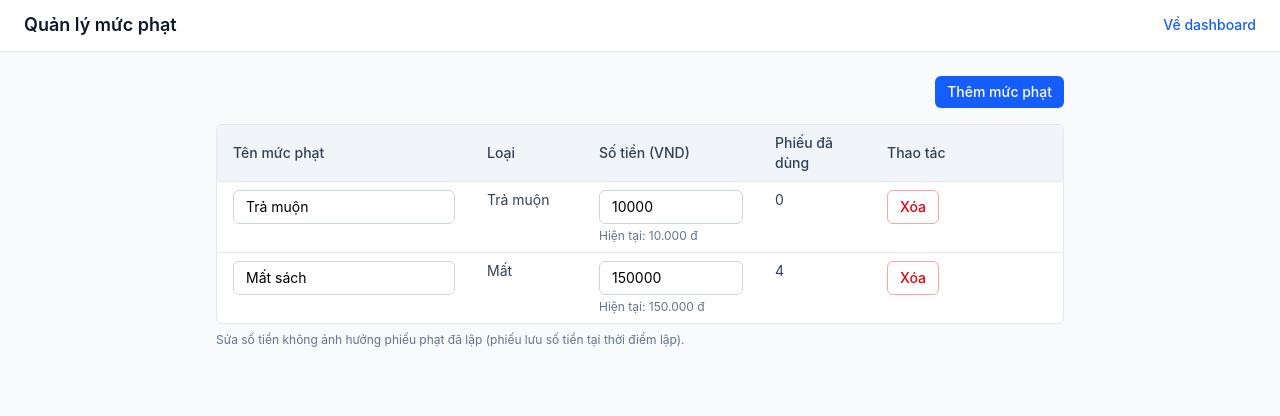
Test: FineTiersPage (2.5.1) › edge 7: Admin khác đã sửa (409 stale) → báo lỗi và tải lại bảng
Clear the field named "Tên mức phạt Trả muộn" at (344, 207), box [233, 190, 455, 224]
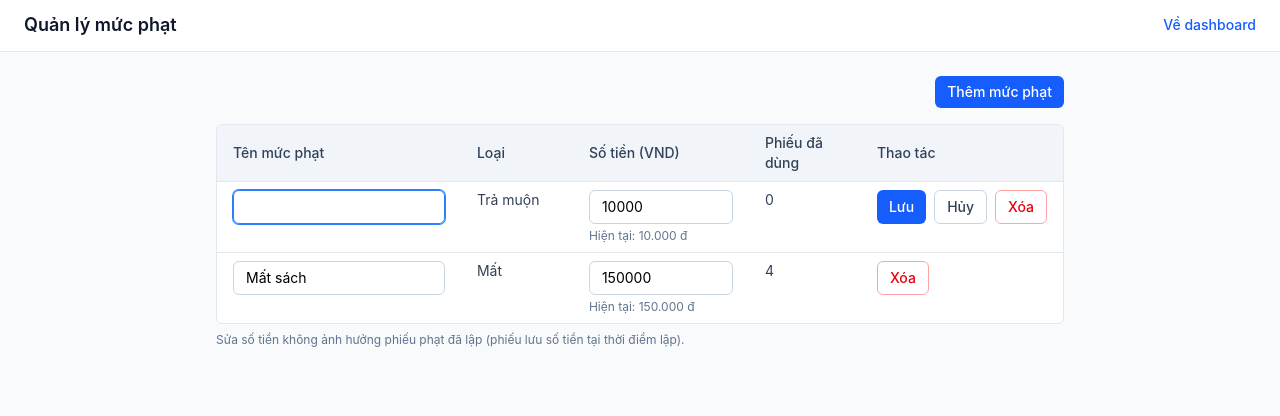
Type "Quá hạn" into the field named "Tên mức phạt Trả muộn" at (339, 207), box [233, 190, 445, 224]
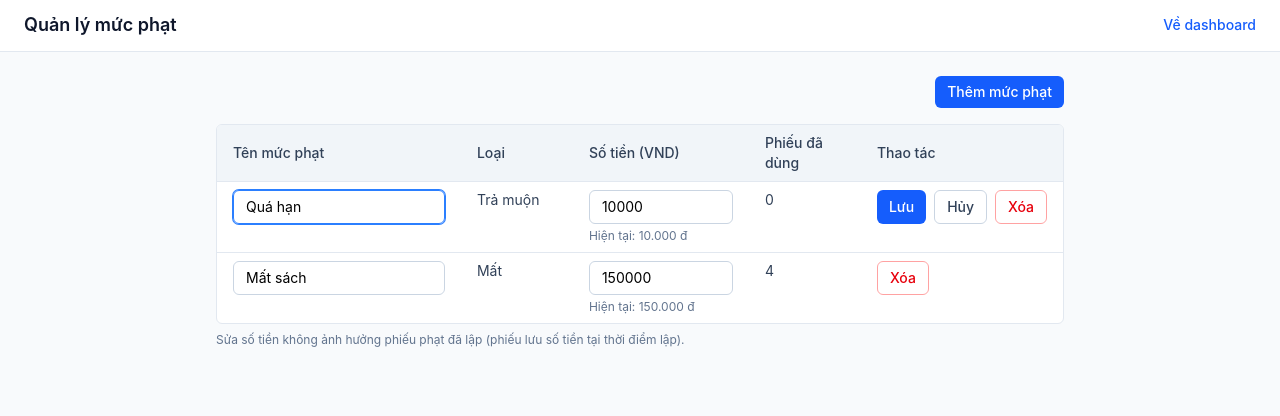
Click the button "Lưu" at (902, 207), box [877, 190, 926, 224]
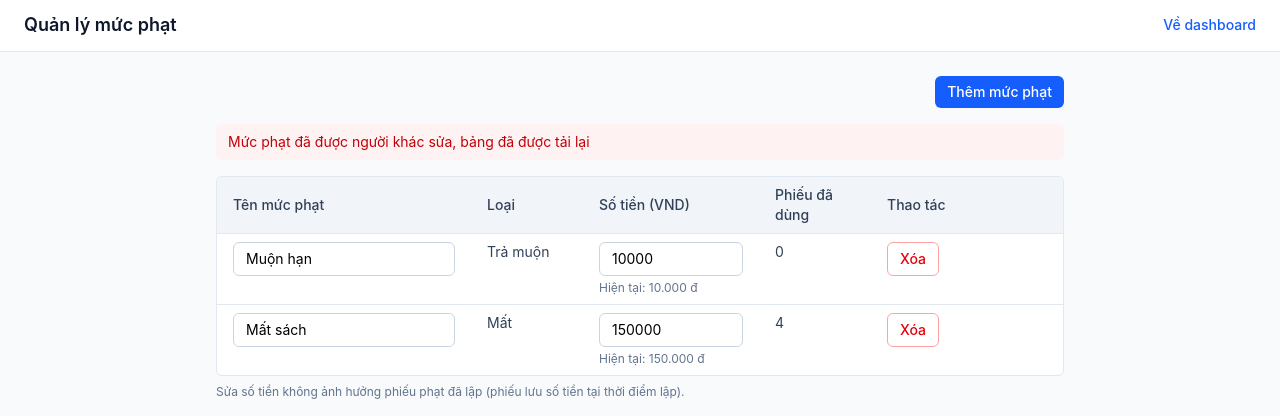
Now the message shows "Mức phạt đã được người khác sửa", box [228, 133, 590, 150]
Now the field named "Tên mức phạt Muộn hạn" holds "Muộn hạn", box [233, 242, 455, 276]
